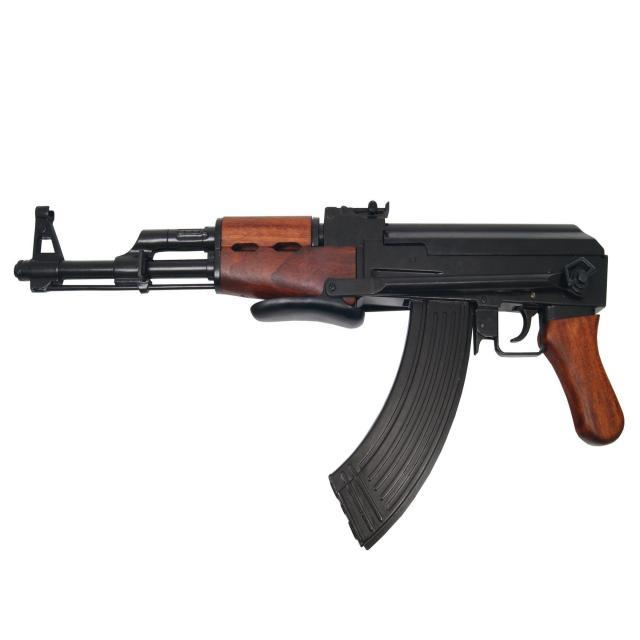ak: (10, 122, 631, 559)
